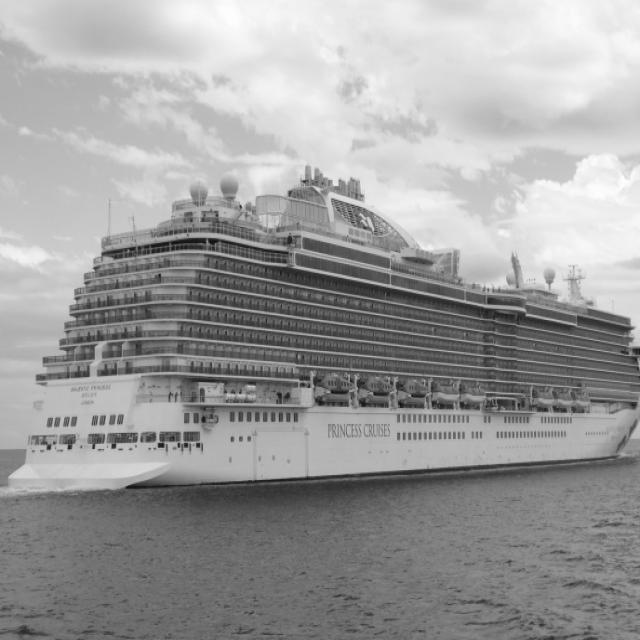cruises: (5, 132, 640, 492)
